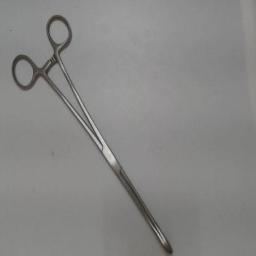Sponge Forceps: (8, 8, 180, 254)
